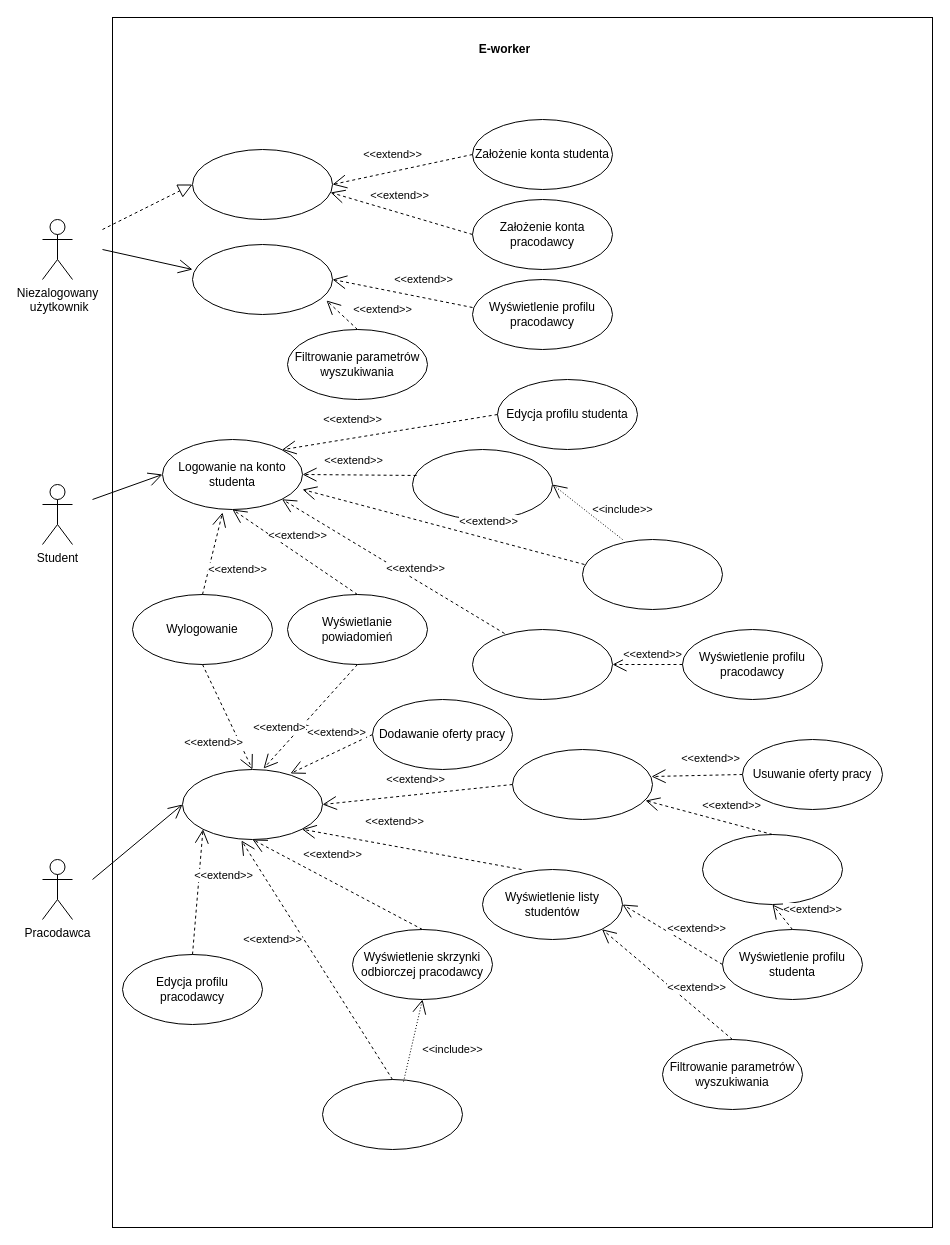
Some shapes in this 950 by 1245 pixel diagram are drawn without their labels. Each missing label, with the centre of its shape:
Logowanie na konto pracodawcy: the point at 252,804
Przeszukiwanie ofert pracy: the point at 262,279
Utworzenie nowej wiadomości do pracodawcy: the point at 652,574
Utworzenie nowej wiadomości do studenta: the point at 392,1114
Wyświetlenie listy aplikujących studentów: the point at 772,869
Wyświetlenie ofert na podstawie procentu dopasowania: the point at 542,664
Wyświetlenie skrzynki odbiorczej studenta: the point at 482,484
Wyświetlenie utworzonych ofert pracy: the point at 582,784
Założenie konta: the point at 262,184
